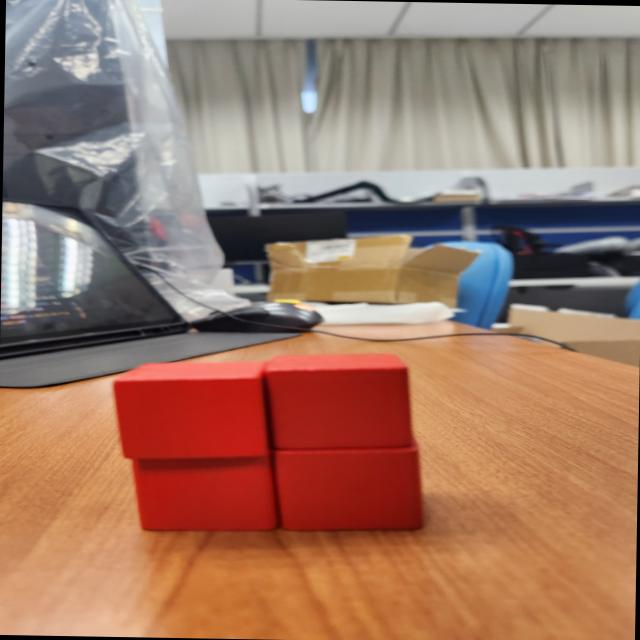red: (107, 360, 276, 462), (261, 437, 427, 532), (262, 352, 418, 449), (130, 440, 282, 533)
